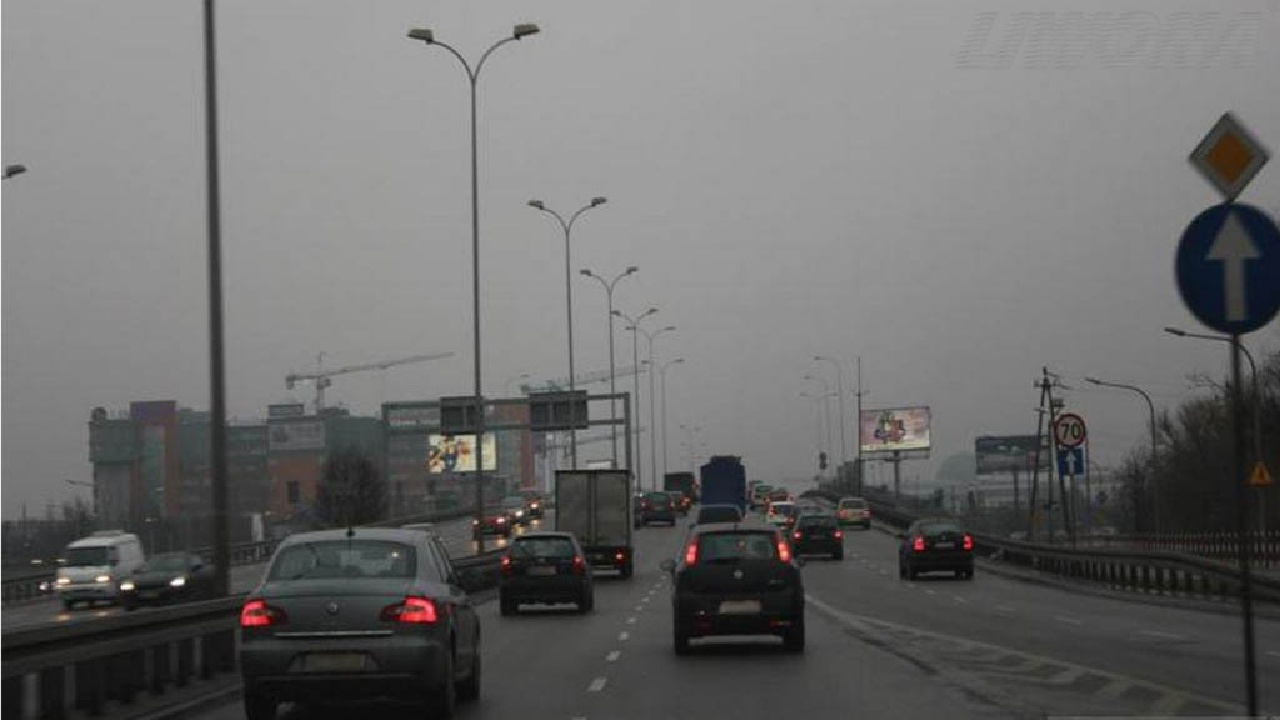C5: (1172, 203, 1280, 335)
D1: (1187, 112, 1269, 201)
